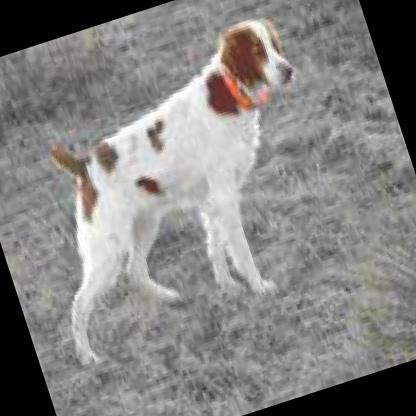Brittany_spaniel: (0, 7, 354, 358)
